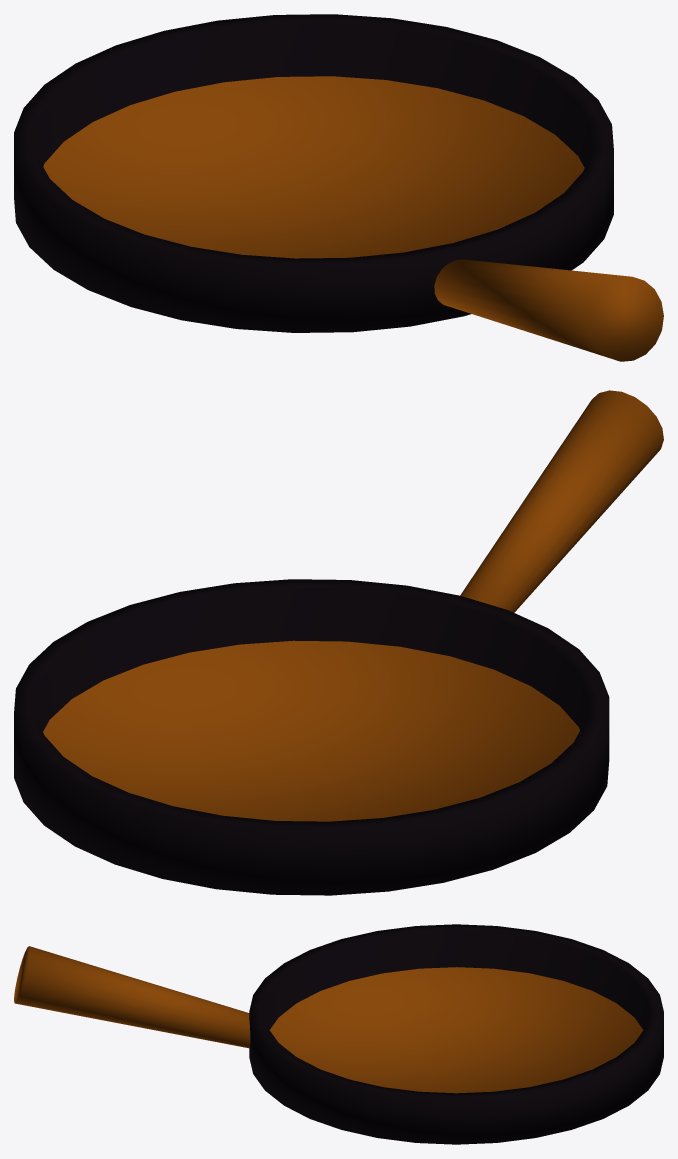
Rendered from Frying pan.fbx.
The picture shows the model from 3 angles, top to bottom: view 1: azimuth 30°, elevation 25°; view 2: azimuth 150°, elevation 25°; view 3: azimuth 270°, elevation 25°; orthographic projection. The views are drawn at different scales.
Parts seen in each view (by area): view 1: Frying pan; view 2: Frying pan; view 3: Frying pan.
Boxes of the visible parts, x1=… form: Frying pan: x1=14, y1=14, x2=663, y2=361; Frying pan: x1=14, y1=390, x2=663, y2=895; Frying pan: x1=14, y1=924, x2=663, y2=1144.
Size of the model in its own units: 42.6 by 12.16 by 66.75.
